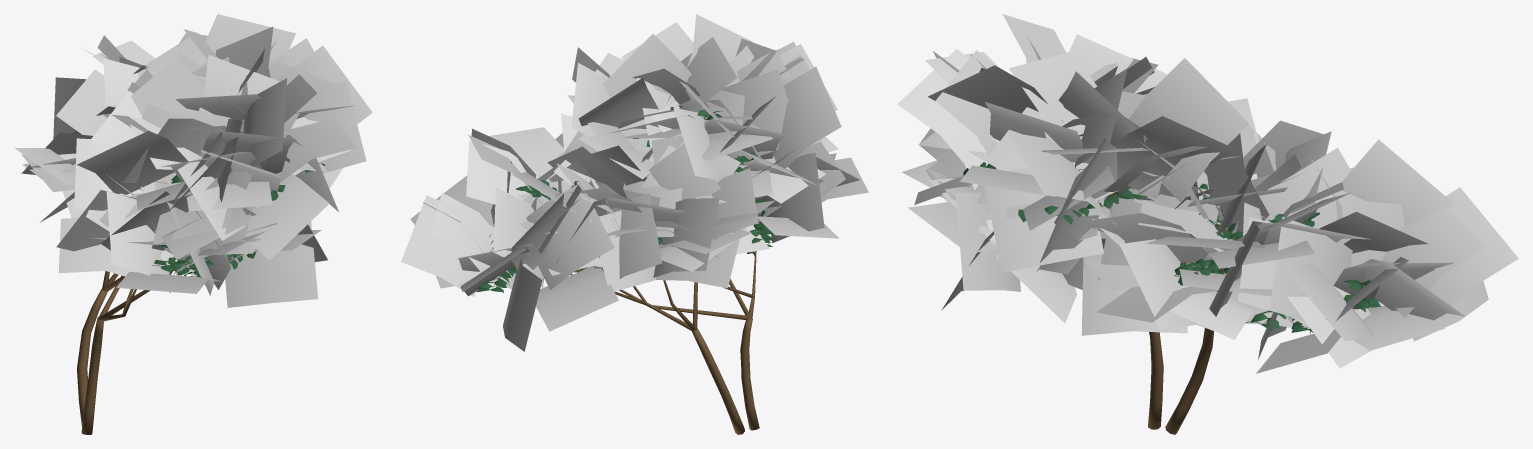
The model's file is Myrte_Incline_LOD0.fbx.
3 views of the same model, side by side, from view 1: azimuth 30°, elevation 25°; view 2: azimuth 150°, elevation 25°; view 3: azimuth 270°, elevation 25° (orthographic). The views are drawn at different scales.
Visible parts, largest first — view 1: Myrte_Incline; view 2: Myrte_Incline; view 3: Myrte_Incline.
Boxes of the visible parts, x1,y1,x2,y2 form: Myrte_Incline: (15, 14, 372, 434); Myrte_Incline: (401, 14, 868, 434); Myrte_Incline: (897, 14, 1518, 434).
Bounding box in the file's own units: 226 × 227 × 291.
